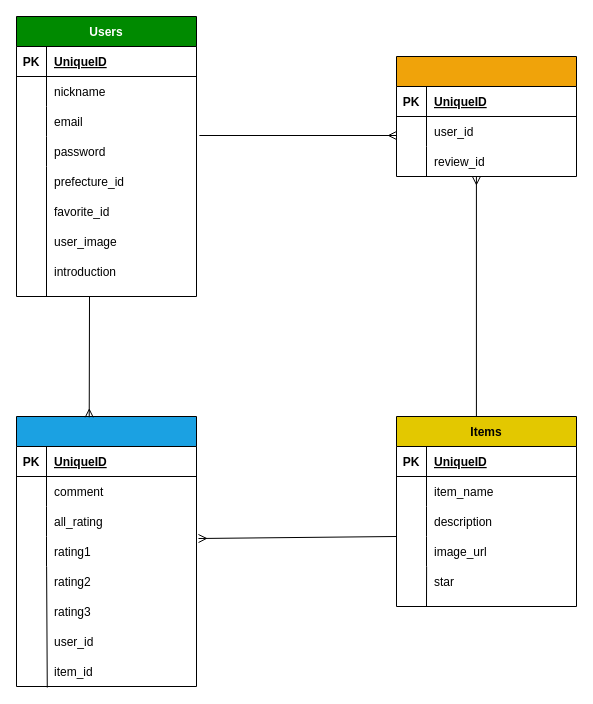
Image size: 593x704. Some labels were removed from this diagram. Each missing label, with the box of its shape:
Likes: (396, 56, 576, 176)
Reviews: (16, 416, 196, 686)
